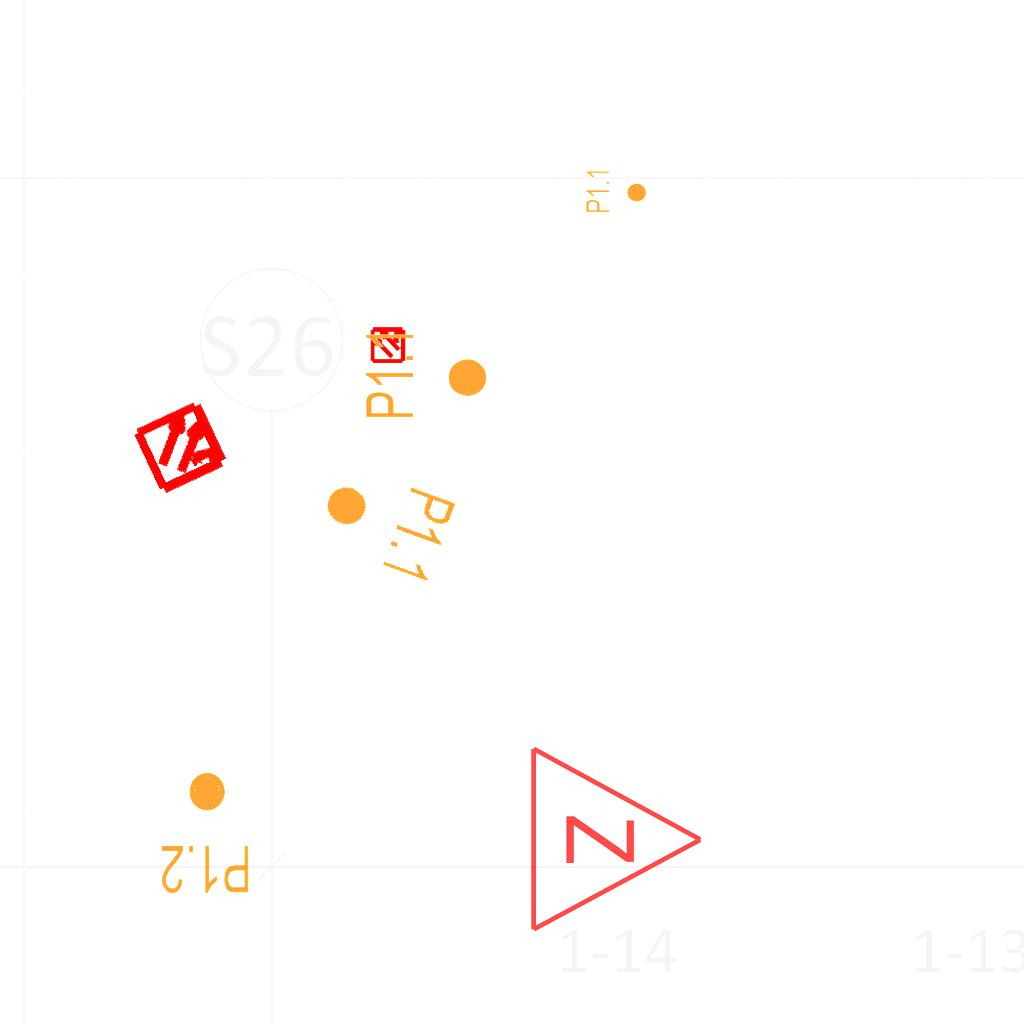Downlight_LED_Einbauleuchten_Flur: (308, 457, 461, 589), (159, 769, 252, 897), (362, 328, 490, 421), (584, 168, 648, 214)
OT_Multisensormelder_(Kombination_RMO_WMD): (107, 371, 258, 522), (360, 316, 416, 372)
Zimmersignalleuchte: (516, 739, 716, 935)
